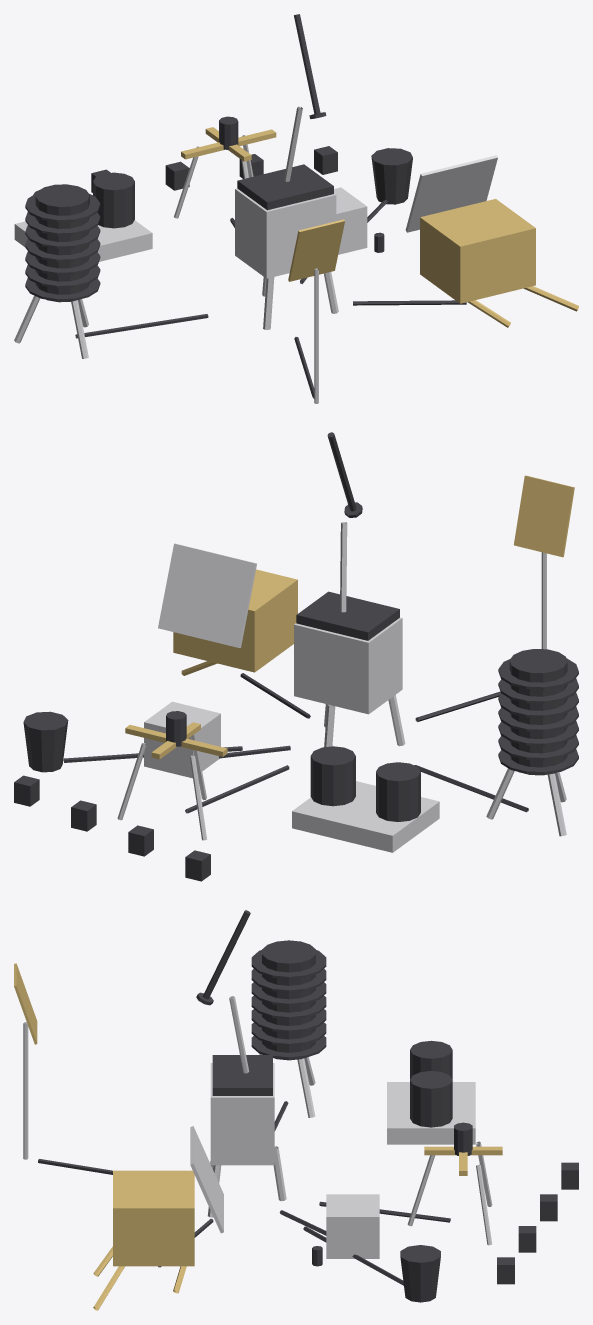
File: alsep.gltf
3 views of the same model, one above another, from view 1: azimuth 30°, elevation 25°; view 2: azimuth 150°, elevation 25°; view 3: azimuth 270°, elevation 25° (orthographic). The views are drawn at different scales.
Parts seen in each view (by area): view 1: dark, alsep, gold; view 2: alsep, dark, gold; view 3: dark, alsep, gold.
Boxes of the visible parts, bbox=[...] form: dark: bbox=[25, 14, 466, 398]; alsep: bbox=[14, 106, 497, 403]; gold: bbox=[181, 127, 578, 327]; alsep: bbox=[117, 522, 566, 852]; dark: bbox=[14, 432, 578, 881]; gold: bbox=[125, 475, 574, 759]; dark: bbox=[38, 910, 578, 1302]; alsep: bbox=[23, 996, 492, 1258]; gold: bbox=[14, 963, 502, 1310].
Bounding box in the file's own units: 3.02 × 1.85 × 3.18.
